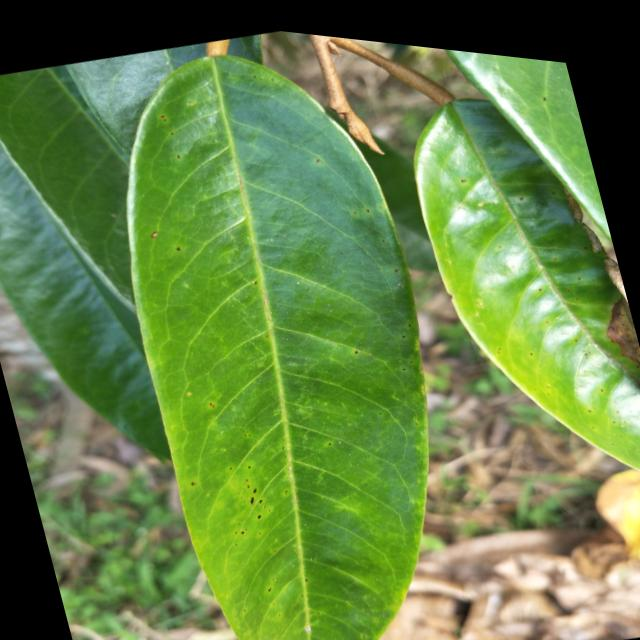Leaf Spot: (200, 403, 315, 555)
